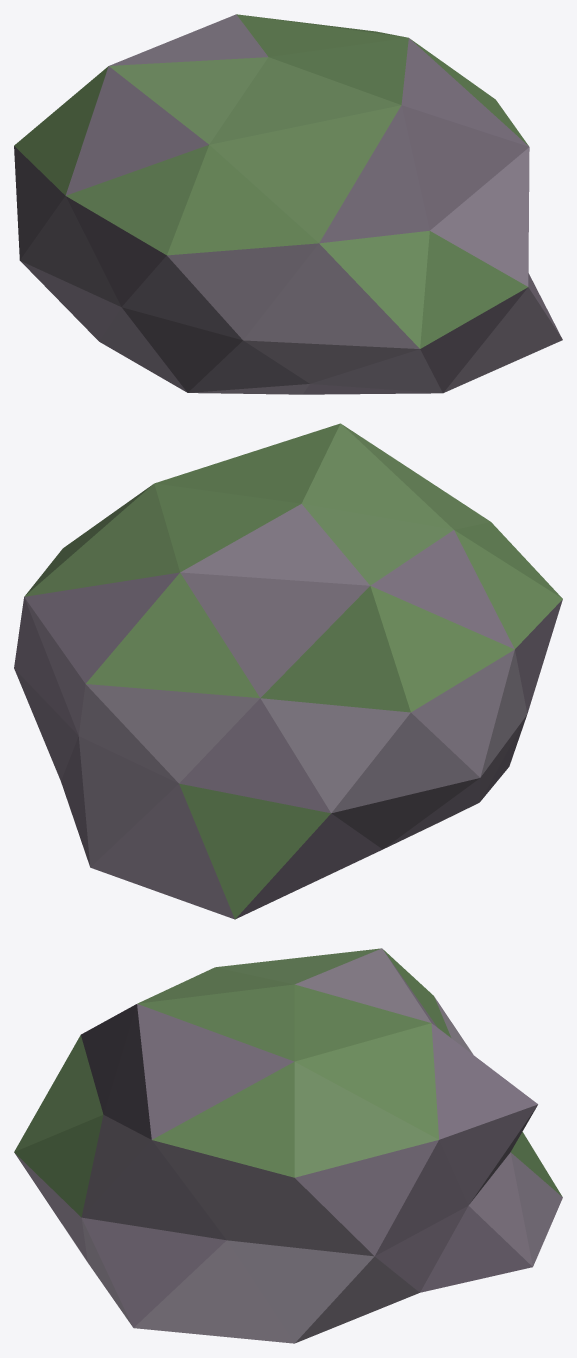
Rendered from Rock_Mossy_A.fbx.
3 views of the same model, one above another, from view 1: azimuth 30°, elevation 25°; view 2: azimuth 150°, elevation 25°; view 3: azimuth 270°, elevation 25° (orthographic). The views are drawn at different scales.
Parts seen in each view (by area): view 1: Rock_Mossy_A; view 2: Rock_Mossy_A; view 3: Rock_Mossy_A.
Boxes of the visible parts, x1,y1,x2,y2 form: Rock_Mossy_A: [14, 14, 562, 394]; Rock_Mossy_A: [14, 423, 562, 919]; Rock_Mossy_A: [14, 948, 562, 1343].
Size of the model in its own units: 1.86 by 1.07 by 2.12.
